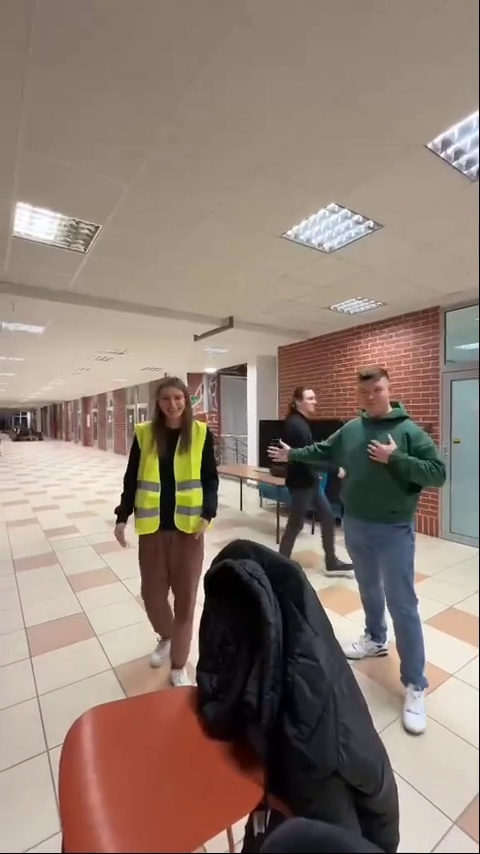no vest: (330, 366, 453, 742), (272, 392, 340, 570)
vest: (125, 380, 224, 683)
